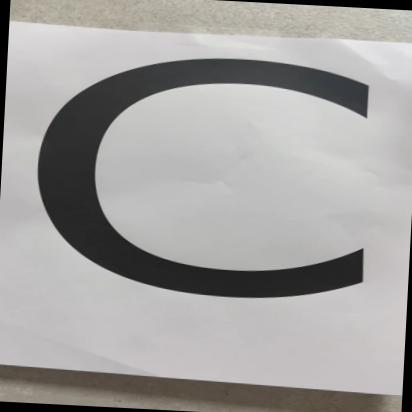seat: (0, 21, 412, 389)
